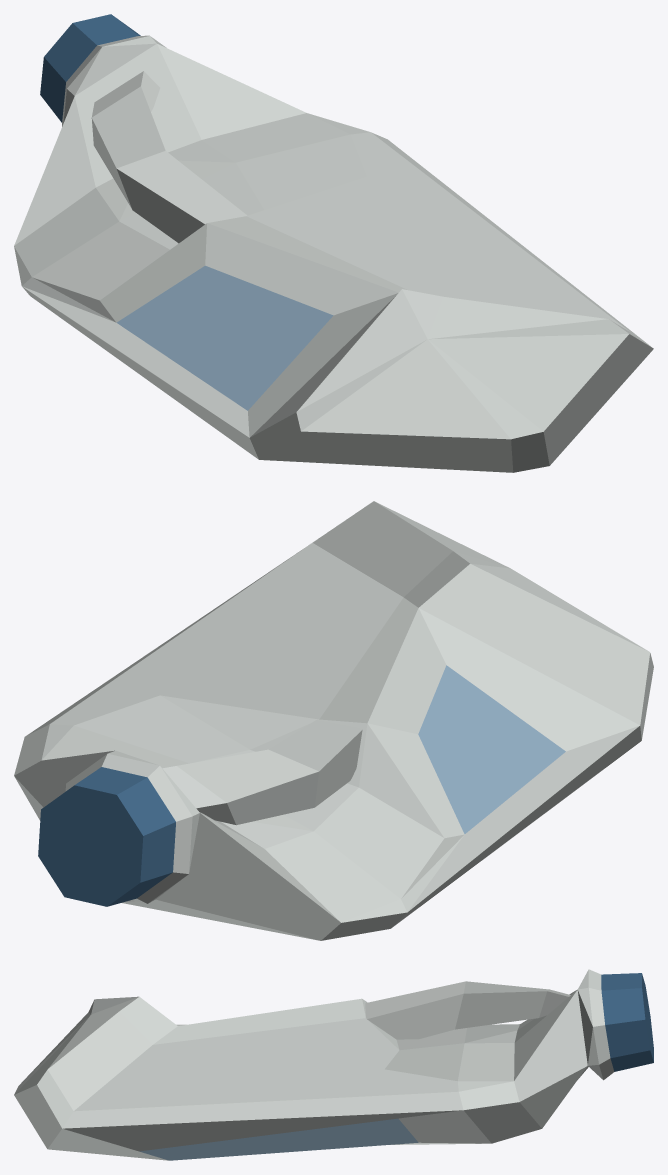
Rendered from SM_Prop_Rubbish_Bottle_02.fbx.
3 views of the same model, one above another, from view 1: azimuth 30°, elevation 25°; view 2: azimuth 150°, elevation 25°; view 3: azimuth 270°, elevation 25° (orthographic). The views are drawn at different scales.
Parts seen in each view (by area): view 1: SM_Prop_Rubbish_Bottle_02; view 2: SM_Prop_Rubbish_Bottle_02; view 3: SM_Prop_Rubbish_Bottle_02.
Part boxes in pixels (left/top/right/bottom): SM_Prop_Rubbish_Bottle_02: left=14, top=14, right=653, bottom=472; SM_Prop_Rubbish_Bottle_02: left=14, top=501, right=653, bottom=940; SM_Prop_Rubbish_Bottle_02: left=14, top=969, right=653, bottom=1160.
Size of the model in its own units: 21.72 by 10.63 by 42.91.
